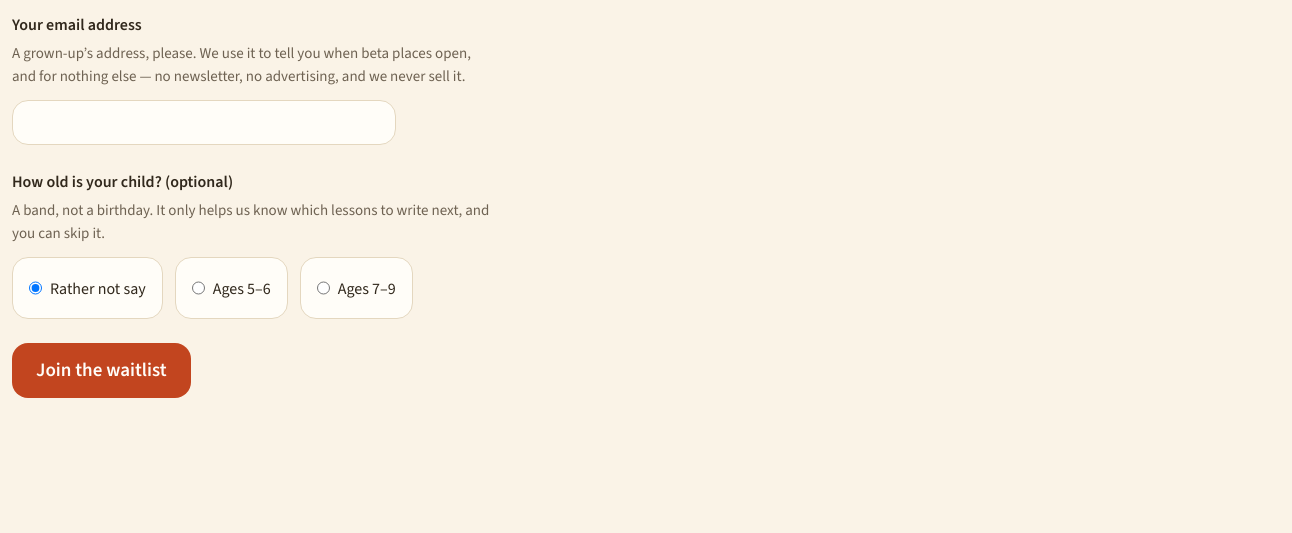
Scenario: WaitlistForm › does not send an empty form
The width and height of the screenshot is (1292, 533).
Click the button "Join the waitlist": (101, 371) [12,343,191,398]
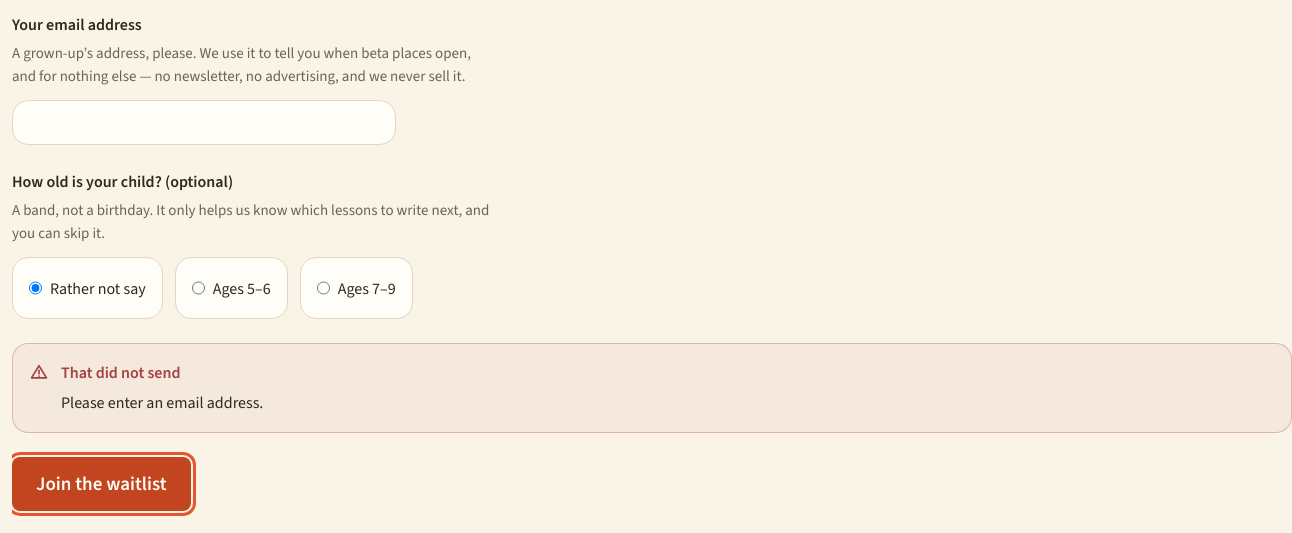
Expected: the message shows "enter an email address", [61,392,263,413]
